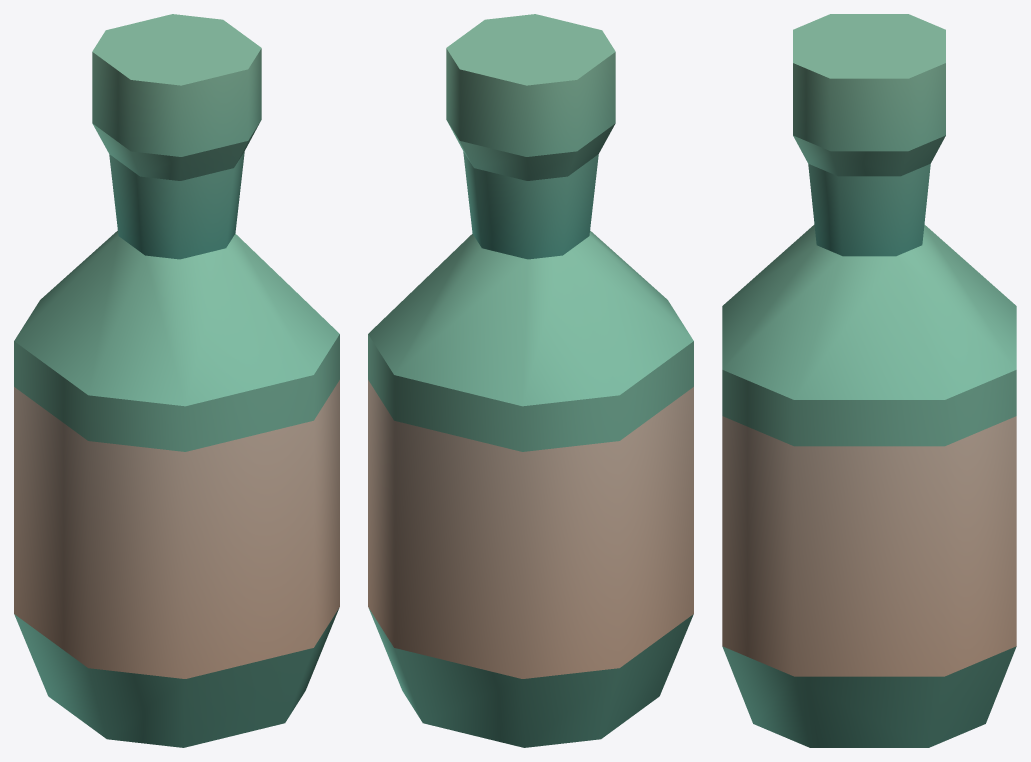
File: bottle.glb
The picture shows the model from 3 angles, left to right: view 1: azimuth 30°, elevation 25°; view 2: azimuth 150°, elevation 25°; view 3: azimuth 270°, elevation 25°; orthographic projection.
Visible parts, largest first — view 1: bottle; view 2: bottle; view 3: bottle.
Boxes of the visible parts, x1=… form: bottle: x1=14, y1=14, x2=339, y2=747; bottle: x1=368, y1=14, x2=693, y2=747; bottle: x1=722, y1=14, x2=1016, y2=747.
Bounding box in the file's own units: 0.3643 × 0.8905 × 0.3643.
